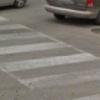crosswalks: (1, 15, 100, 100)
